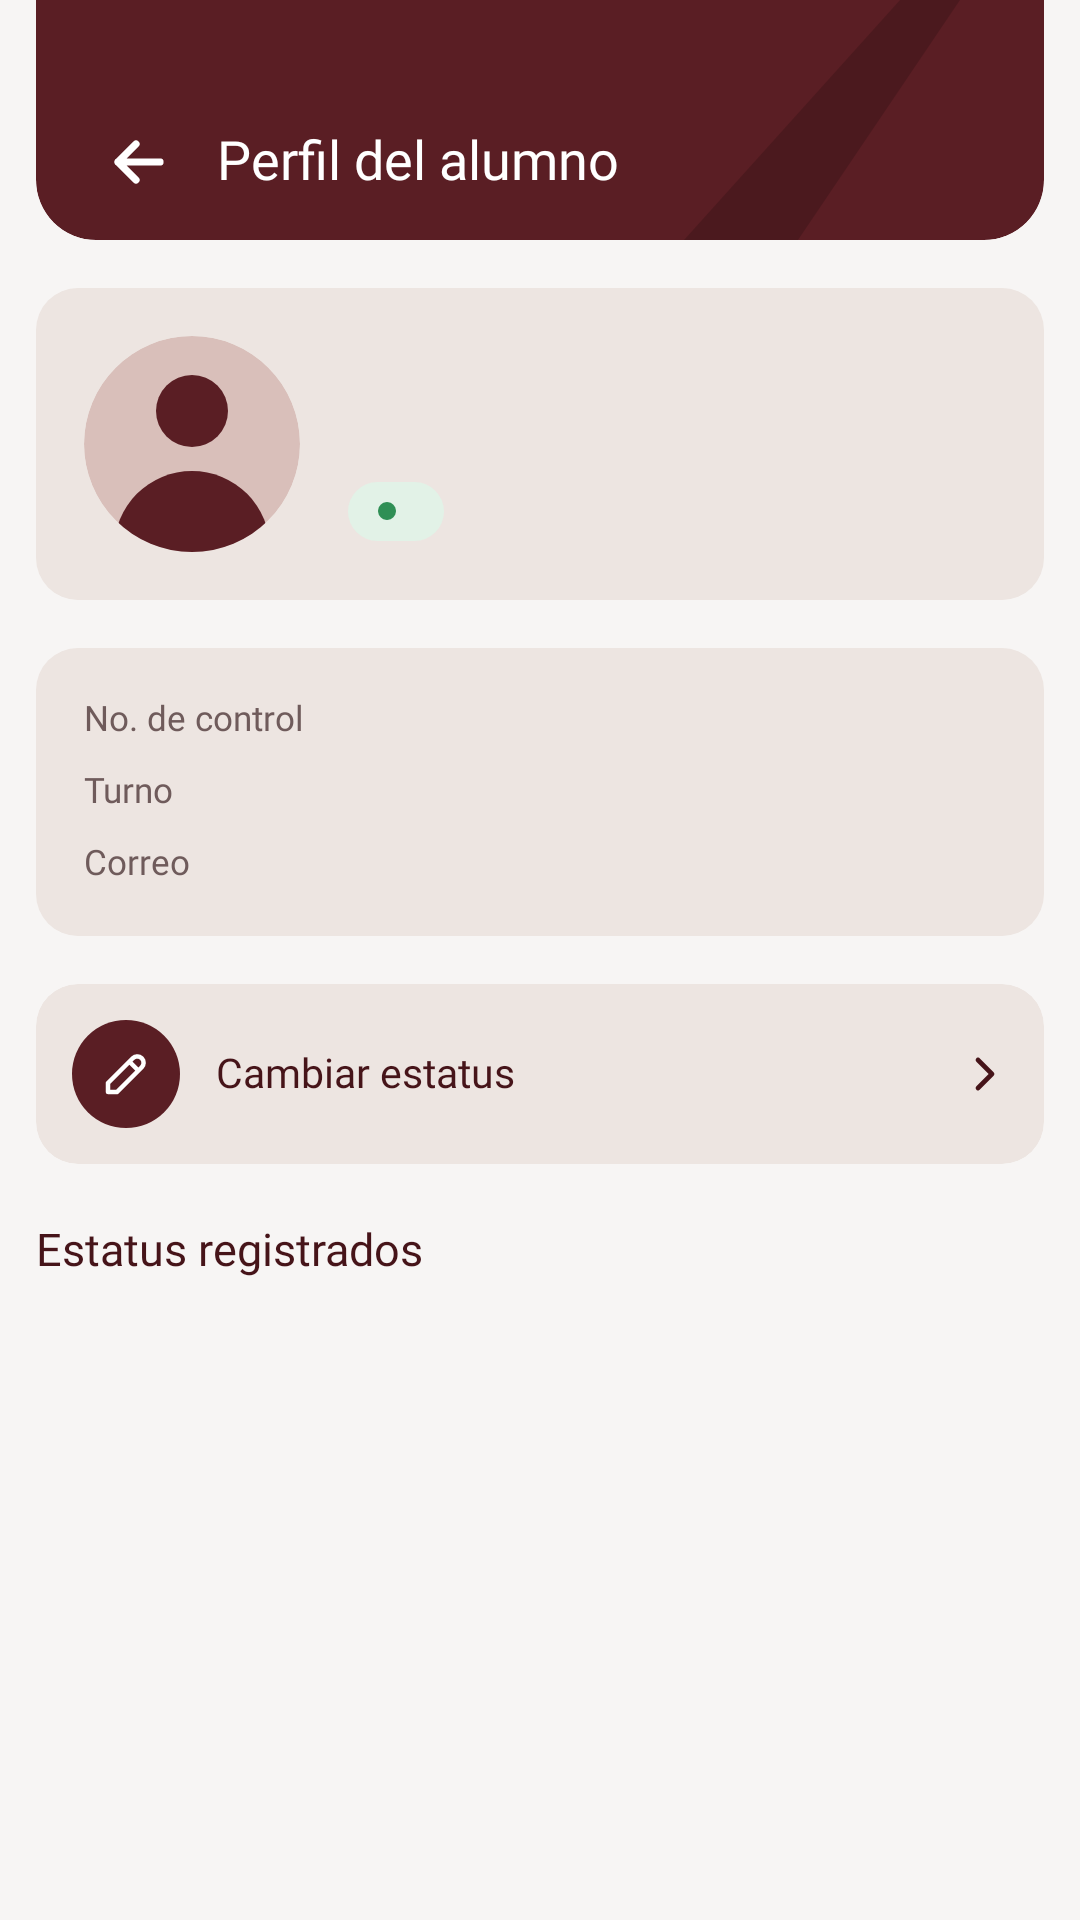

Where to tap for icons on this 1080 x 1920 app screen, as (x,y):
edit: (125,1074)
